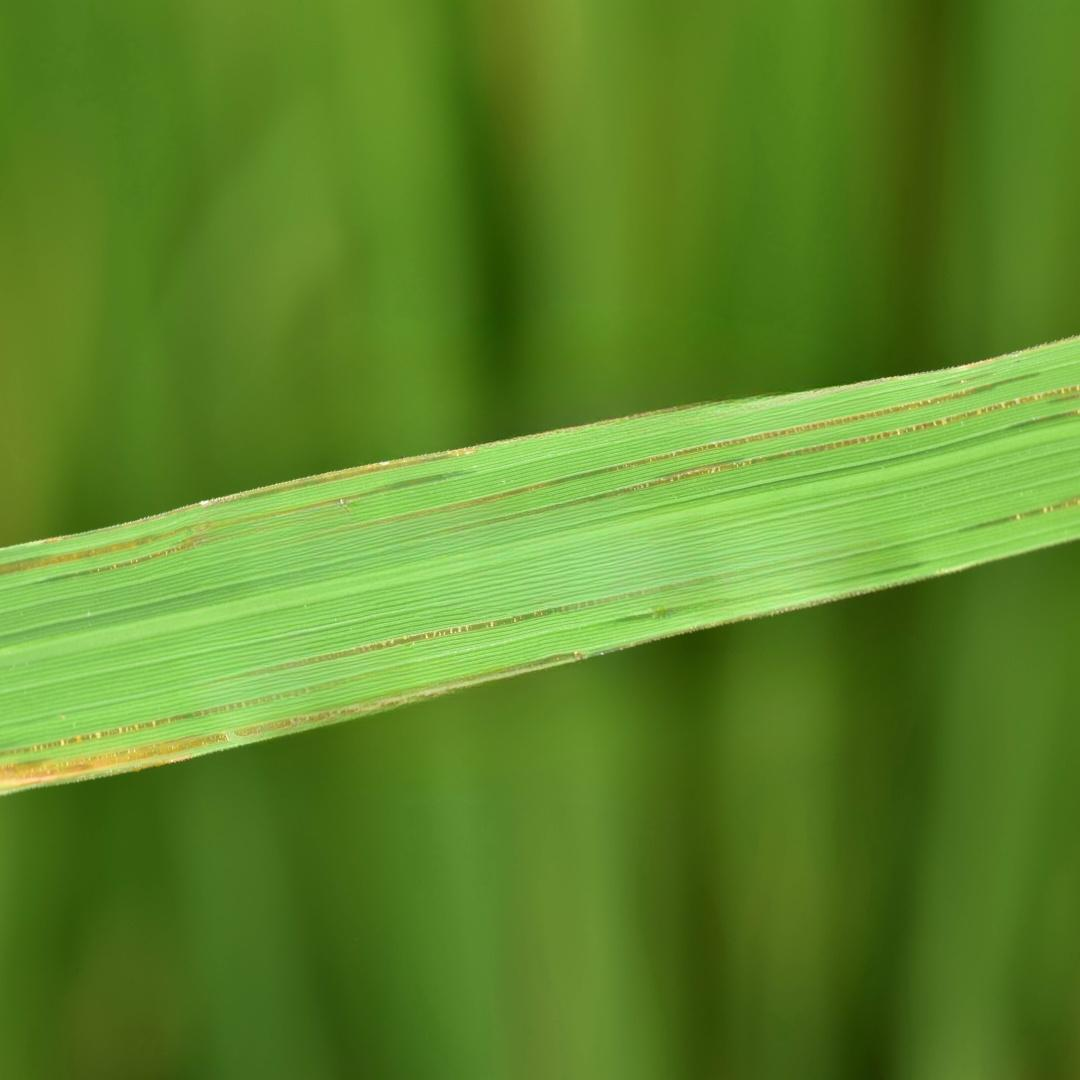BLS: (1, 586, 876, 792), (2, 402, 716, 551), (365, 372, 1039, 527), (602, 383, 1079, 498), (1, 470, 477, 583), (247, 573, 736, 677), (1, 686, 323, 756), (957, 496, 1079, 533)
LEAF: (0, 335, 1079, 793)
